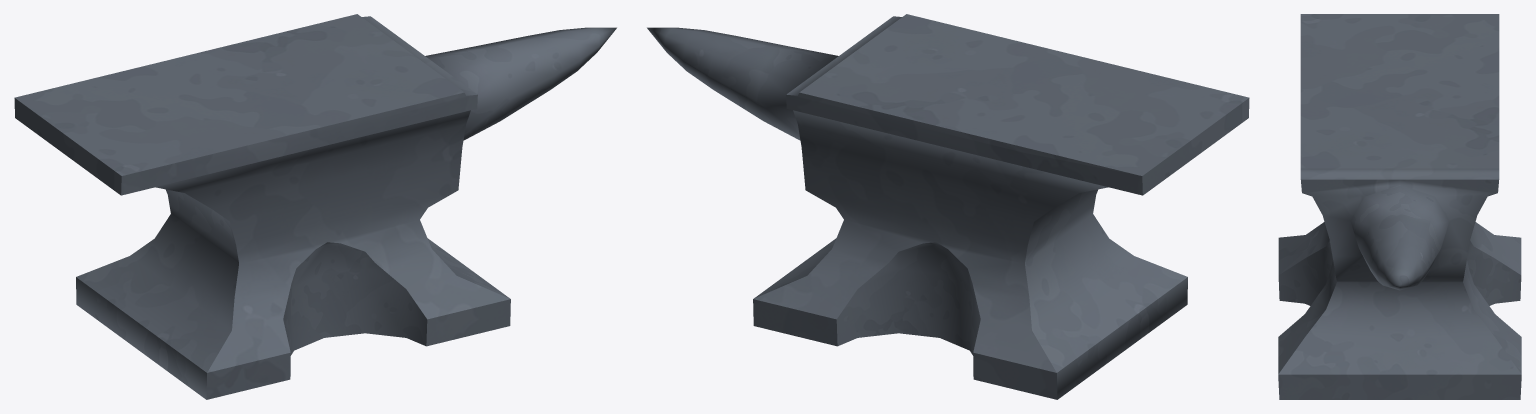
The model's file is enclume.glb.
The picture shows the model from 3 angles, left to right: view 1: azimuth 30°, elevation 25°; view 2: azimuth 150°, elevation 25°; view 3: azimuth 270°, elevation 25°; orthographic projection. The views are drawn at different scales.
Visible parts, largest first — view 1: props_anvil; view 2: props_anvil; view 3: props_anvil.
Part boxes in pixels (x1,y1,x2,y2): props_anvil: (14, 14, 616, 399); props_anvil: (647, 14, 1249, 399); props_anvil: (1278, 14, 1521, 399).
Size of the model in its own units: 0.8668 by 0.3518 by 0.3599.
Materials: 1 (1 with a texture image).
